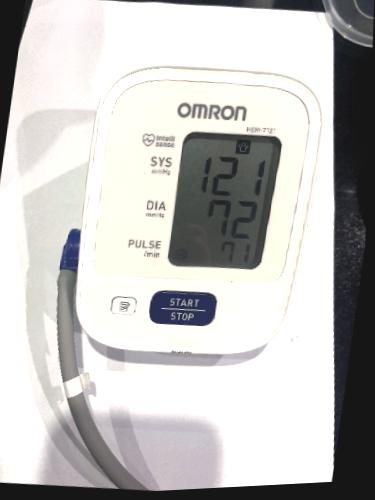bpm: (163, 120, 287, 279)
